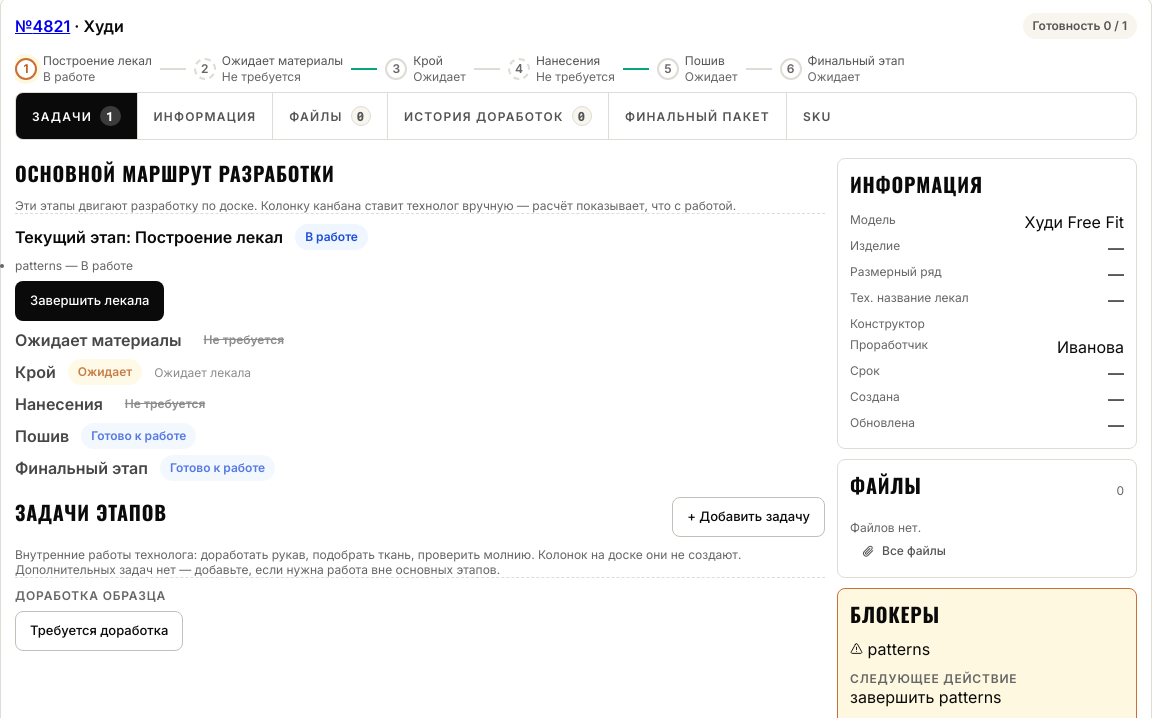
Test: вкладки карточки › переключение вкладки меняет панель
This screenshot has width=1152, height=718.
Click the tab "Финальный пакет".
click(698, 116)  # box [609,93,787,139]
(page scrolled)
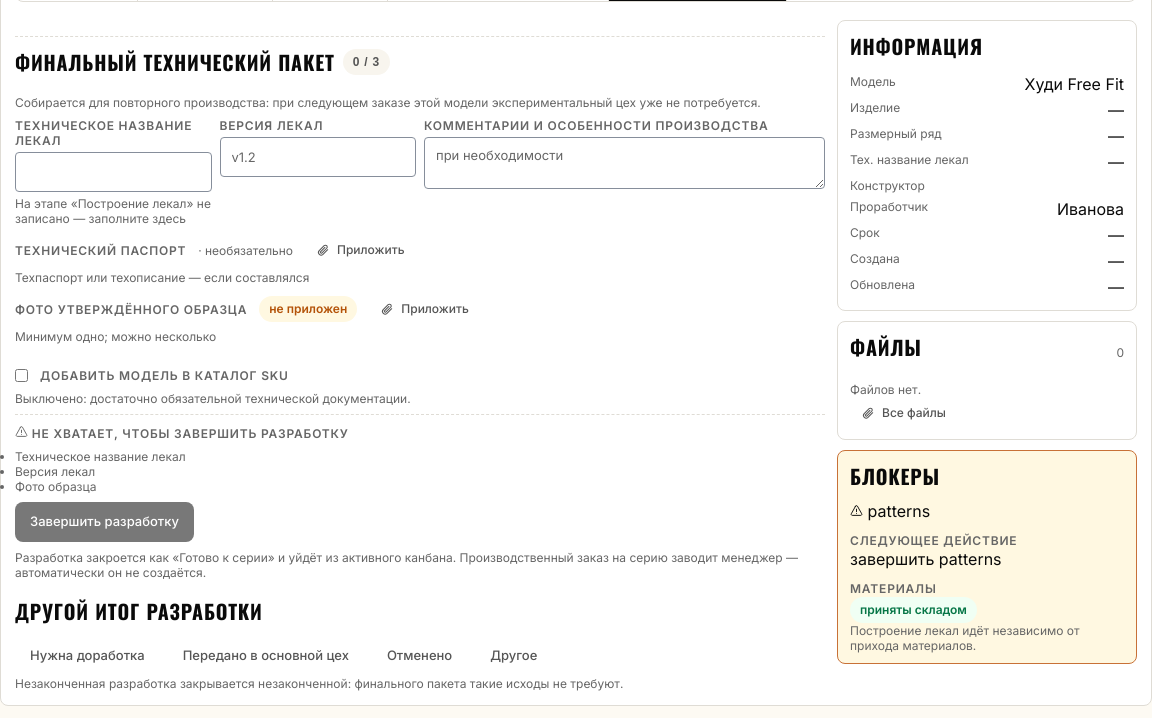
Check: the heading "Другой итог разработки" is shown, box [15,602,263,624]
Check: the heading "Основной маршрут разработки" is gone
